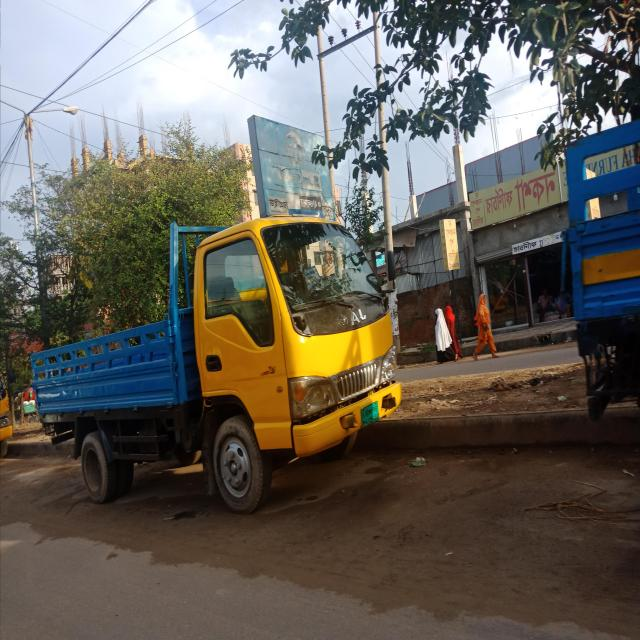truck: (30, 215, 401, 514)
